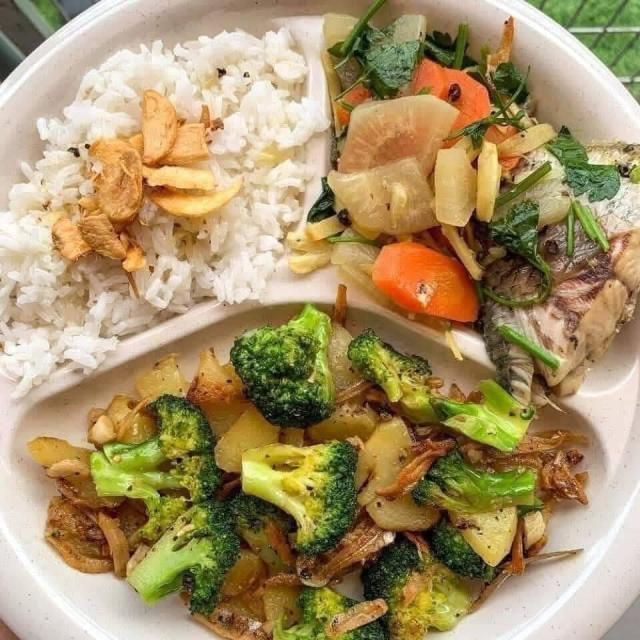Fish: (456, 16, 639, 397)
Plate: (458, 314, 639, 639)
Rice: (0, 27, 307, 395)
Vegetables: (27, 303, 582, 639)
